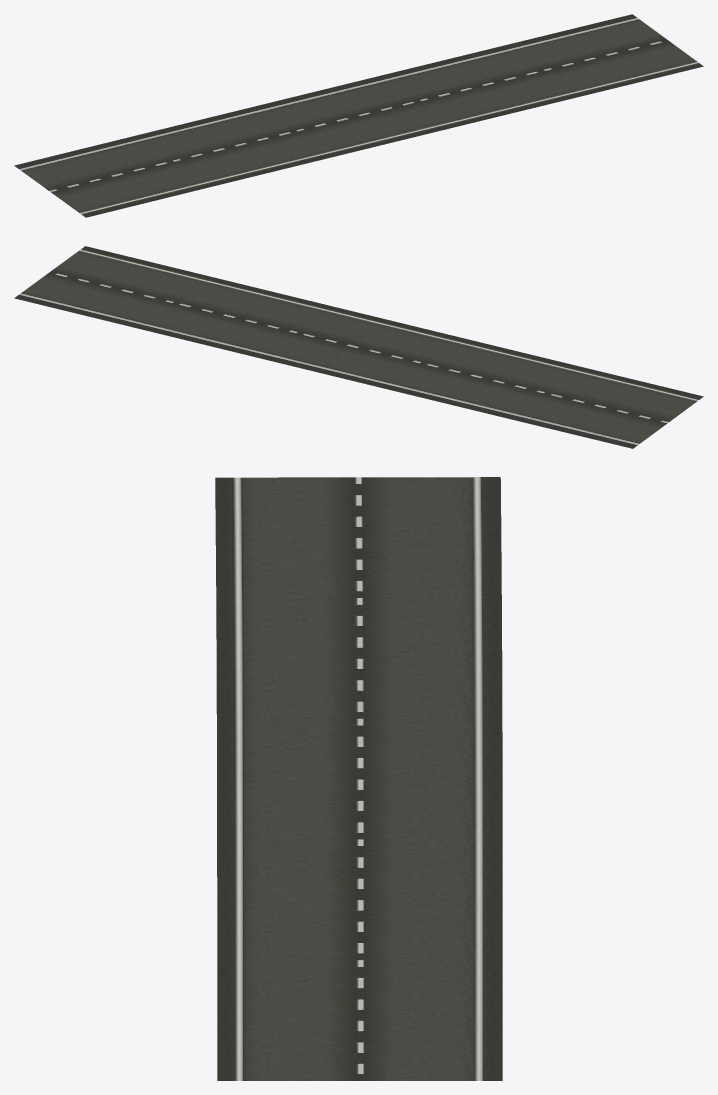
Rendered from road (straight line).fbx.
The picture shows the model from 3 angles, top to bottom: view 1: azimuth 30°, elevation 25°; view 2: azimuth 150°, elevation 25°; view 3: azimuth 270°, elevation 25°; orthographic projection. The views are drawn at different scales.
Visible parts, largest first — view 1: Plane; view 2: Plane; view 3: Plane.
Boxes of the visible parts, left/top/right/bottom form: Plane: left=14, top=14, right=703, bottom=217; Plane: left=14, top=246, right=703, bottom=448; Plane: left=215, top=477, right=502, bottom=1080.
Size of the model in its own units: 1000 by 6.24e-05 by 201.
